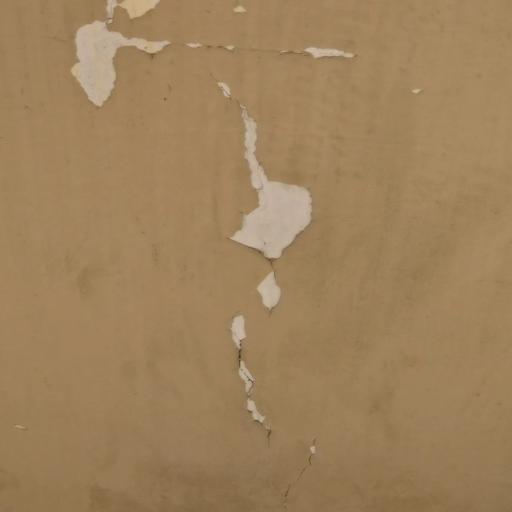peeling: (198, 78, 318, 445), (56, 0, 375, 116)
